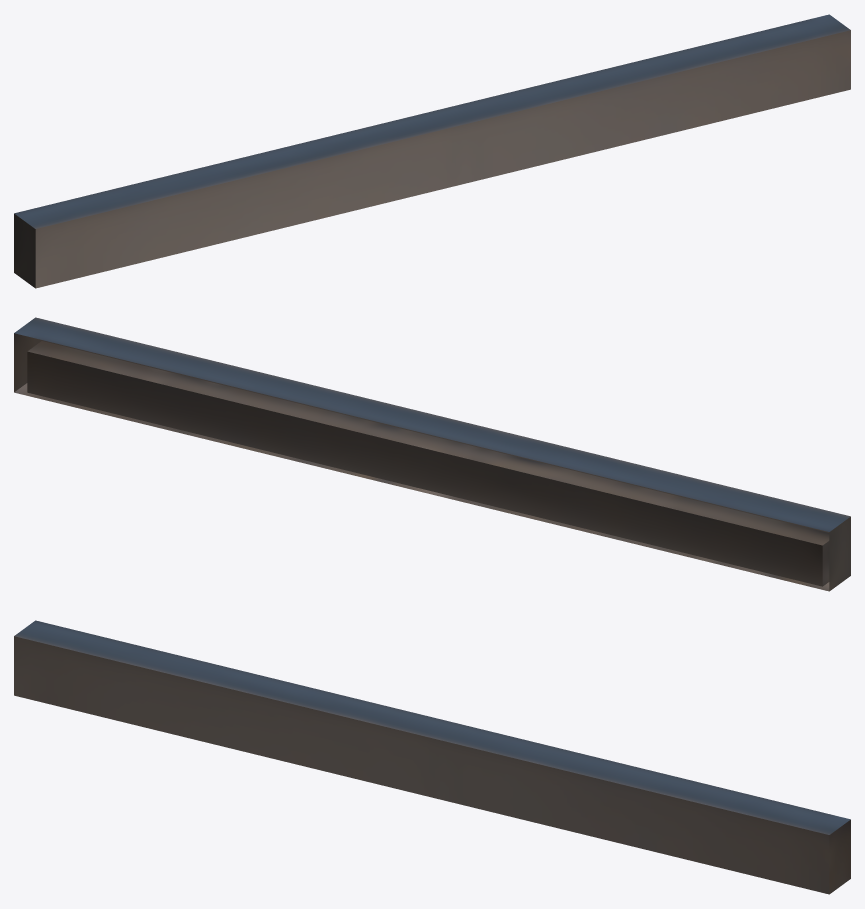
The picture shows the model from 3 angles, top to bottom: view 1: azimuth 30°, elevation 25°; view 2: azimuth 150°, elevation 25°; view 3: azimuth 330°, elevation 25°; orthographic projection.
Visible parts, largest first — view 1: Cube.027; view 2: Cube.027; view 3: Cube.027.
Boxes of the visible parts, x1,y1,x2,y2 form: Cube.027: (14,14,850,288); Cube.027: (14,317,850,591); Cube.027: (14,620,850,894).
Bounding box in the file's own units: 2.65 × 0.1847 × 0.1213.
Materials: 1 (1 with a texture image).
